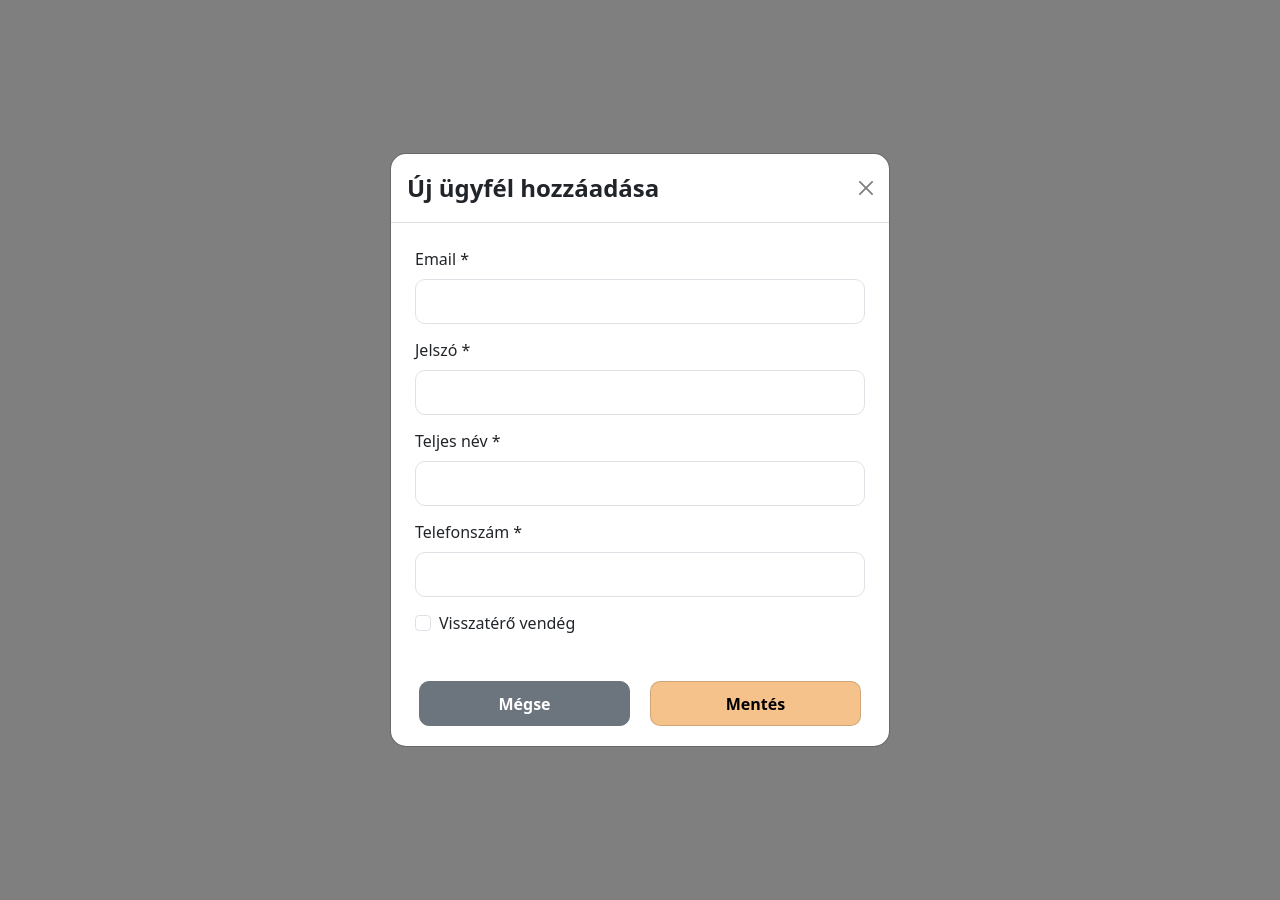
CustomerModal › validáció működik (üres submit)
Click the button "Mentés": [756, 704] box [650,681,861,726]
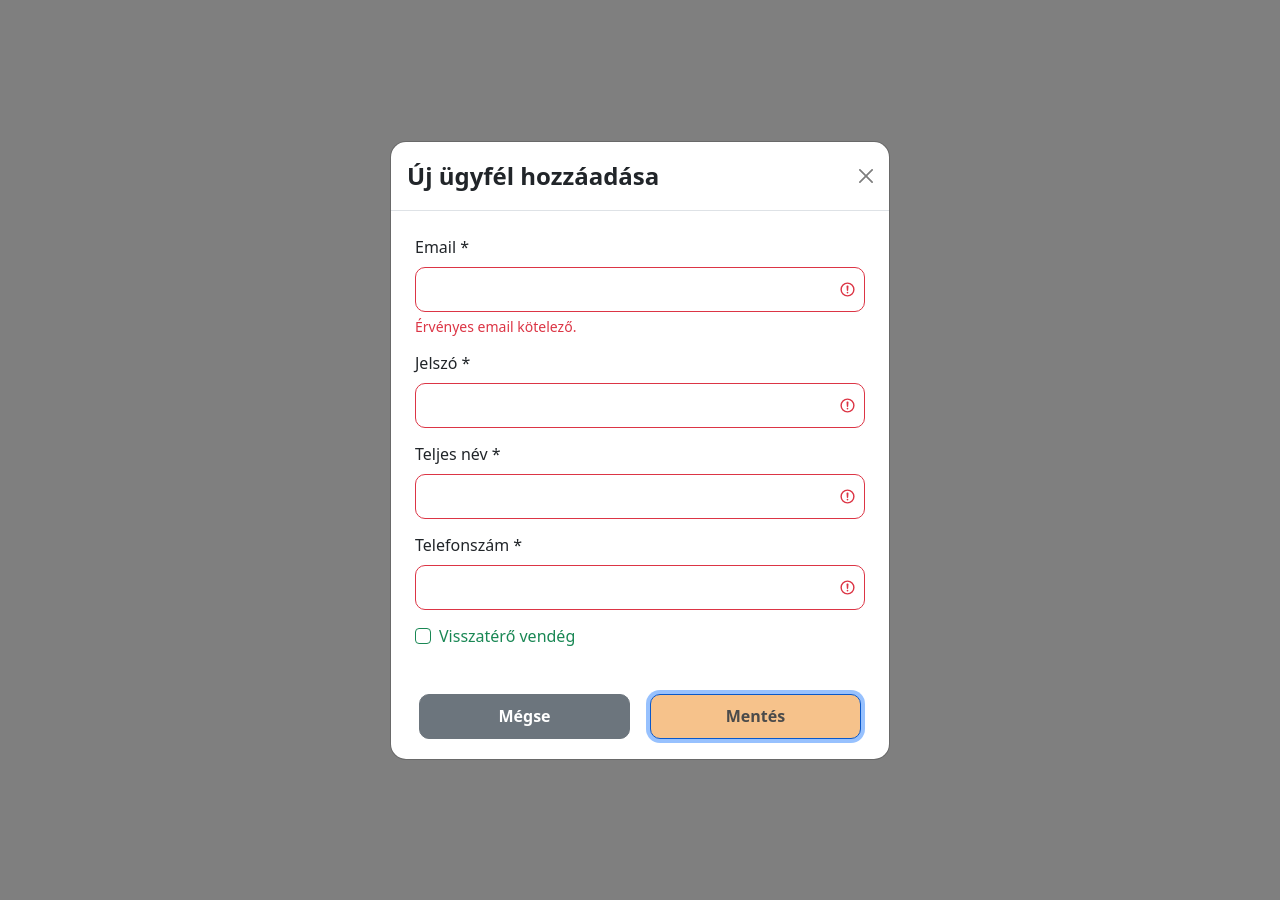
Check: the text "Érvényes email kötelező." is shown, box [415,316,576,336]
